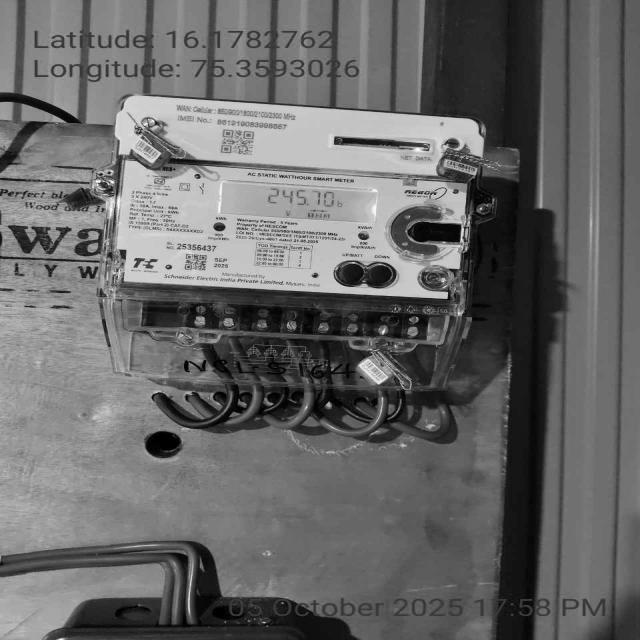meter: (118, 92, 484, 301)
